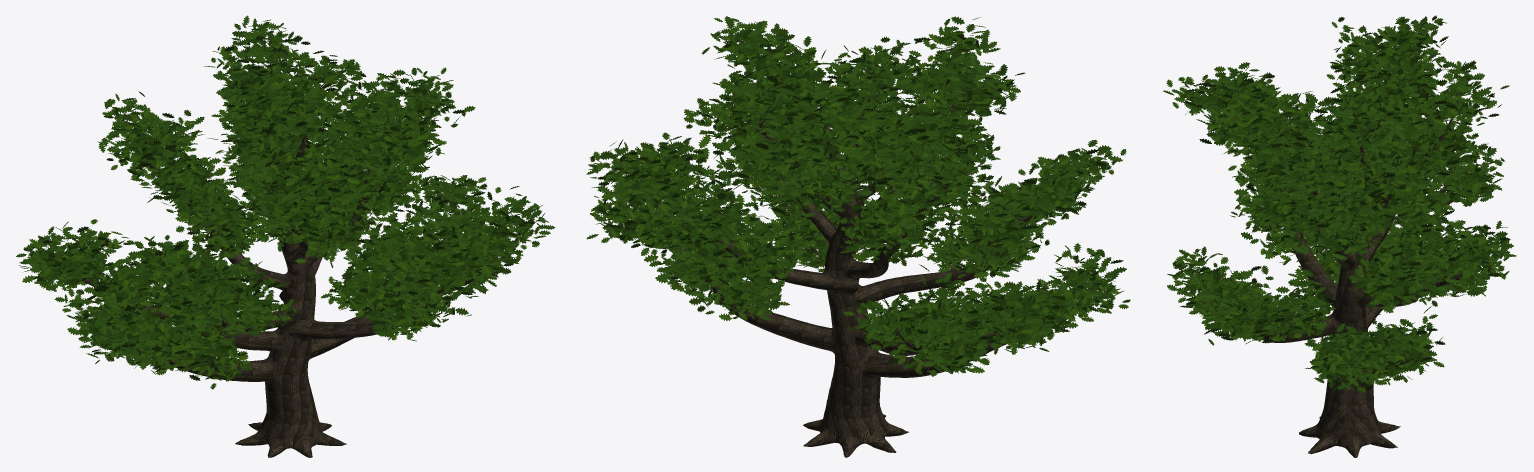
3 views of the same model, side by side, from view 1: azimuth 30°, elevation 25°; view 2: azimuth 150°, elevation 25°; view 3: azimuth 270°, elevation 25° (orthographic). The views are drawn at different scales.
Visible parts, largest first — view 1: Oak_LobedLeaves_0, Oak_LobedLeaves_2, Oak_LobedLeaves_1, Oak_ContinuousRootTrunkBoughs, Oak_LobedLeaves_3, Oak_SecondaryBranchesAndTwigs; view 2: Oak_LobedLeaves_0, Oak_LobedLeaves_2, Oak_LobedLeaves_1, Oak_ContinuousRootTrunkBoughs, Oak_LobedLeaves_3, Oak_SecondaryBranchesAndTwigs; view 3: Oak_LobedLeaves_0, Oak_LobedLeaves_1, Oak_LobedLeaves_2, Oak_LobedLeaves_3, Oak_ContinuousRootTrunkBoughs, Oak_SecondaryBranchesAndTwigs.
Part boxes in pixels (box(x1,y1,x2,y2)): Oak_LobedLeaves_0: box(20, 15, 550, 380); Oak_LobedLeaves_2: box(22, 22, 548, 389); Oak_LobedLeaves_1: box(19, 21, 540, 380); Oak_ContinuousRootTrunkBoughs: box(83, 122, 495, 457); Oak_LobedLeaves_3: box(16, 23, 555, 381); Oak_SecondaryBranchesAndTwigs: box(46, 40, 520, 370); Oak_LobedLeaves_0: box(586, 16, 1122, 376); Oak_LobedLeaves_2: box(590, 17, 1128, 373); Oak_LobedLeaves_1: box(597, 21, 1130, 371); Oak_ContinuousRootTrunkBoughs: box(640, 105, 1069, 457); Oak_LobedLeaves_3: box(588, 16, 1110, 374); Oak_SecondaryBranchesAndTwigs: box(609, 40, 1097, 358); Oak_LobedLeaves_0: box(1163, 16, 1516, 389); Oak_LobedLeaves_1: box(1172, 15, 1510, 392); Oak_LobedLeaves_2: box(1166, 18, 1506, 392); Oak_LobedLeaves_3: box(1167, 18, 1511, 387); Oak_ContinuousRootTrunkBoughs: box(1218, 94, 1460, 457); Oak_SecondaryBranchesAndTwigs: box(1188, 39, 1486, 379).
Size of the model in its own units: 15.6 by 12.77 by 10.41.
5 materials, 5 textured.
